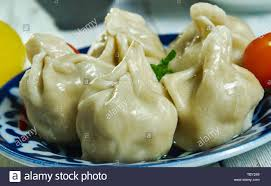modak: (169, 17, 269, 156), (81, 41, 177, 164)
